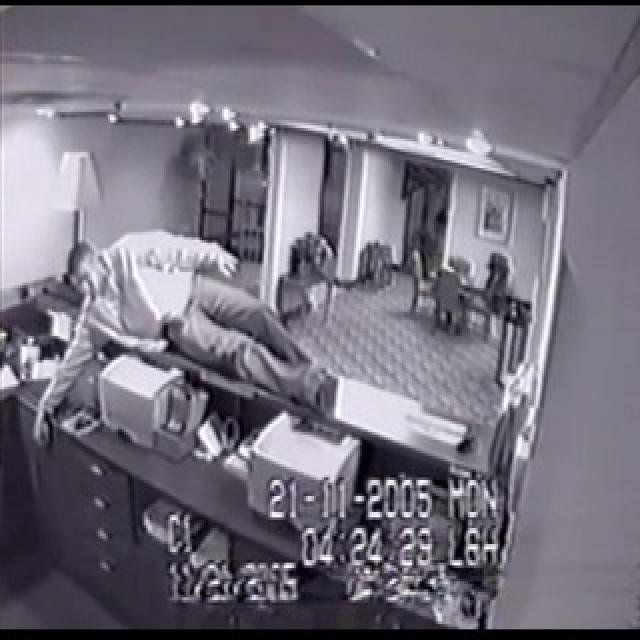thief: (56, 221, 321, 473)
